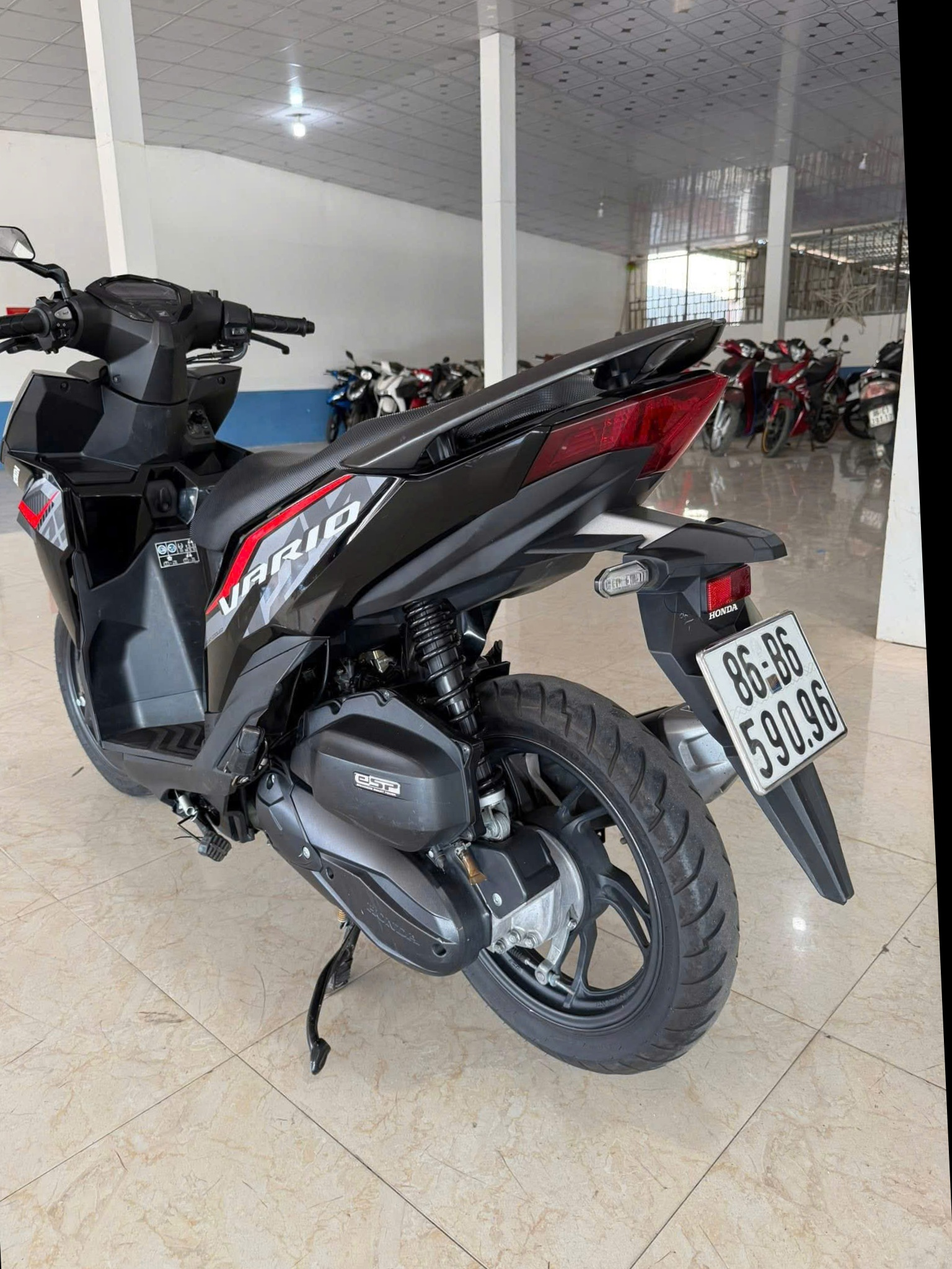Bien-so: (732, 612, 900, 811)
